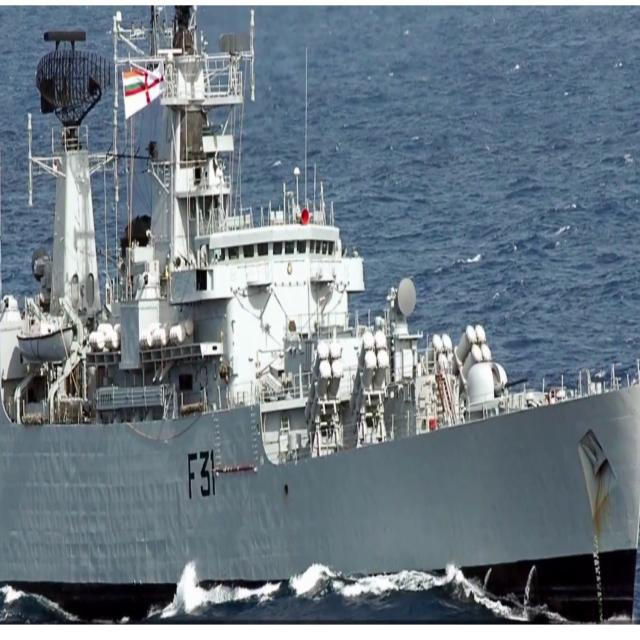OCR: (184, 442, 216, 502)
